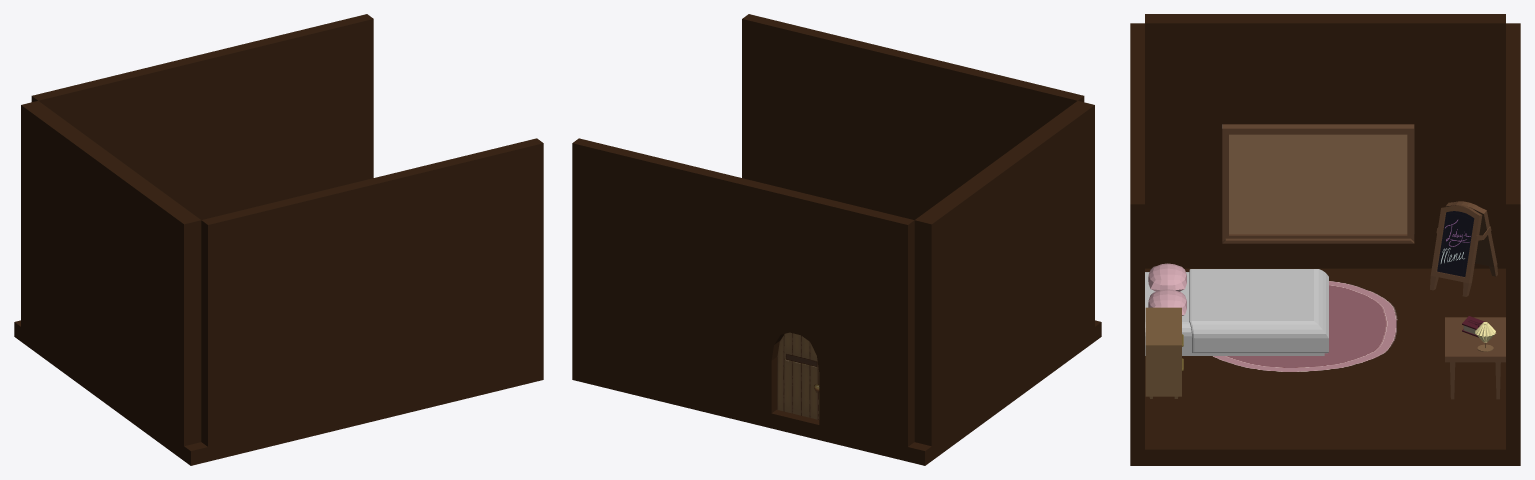
Rendered from Bedroom.fbx.
3 renders of one model, left to right at view 1: azimuth 30°, elevation 25°; view 2: azimuth 150°, elevation 25°; view 3: azimuth 270°, elevation 25°, orthographic. The views are drawn at different scales.
Visible parts, largest first — view 1: Room; view 2: Room, Door; view 3: Room, Board, Bed, Easel, Counter, Table, Cube.001.
Boxes of the visible parts, left/top/right/bottom form: Room: left=14, top=14, right=543, bottom=465; Room: left=572, top=14, right=1101, bottom=465; Door: left=777, top=332, right=819, bottom=419; Room: left=1130, top=14, right=1520, bottom=465; Board: left=1222, top=124, right=1414, bottom=243; Bed: left=1145, top=269, right=1328, bottom=355; Easel: left=1430, top=201, right=1497, bottom=296; Counter: left=1145, top=307, right=1181, bottom=398; Table: left=1445, top=317, right=1505, bottom=399; Cube.001: left=1148, top=263, right=1186, bottom=315.
Size of the model in its own units: 2462 by 1579 by 2134.
